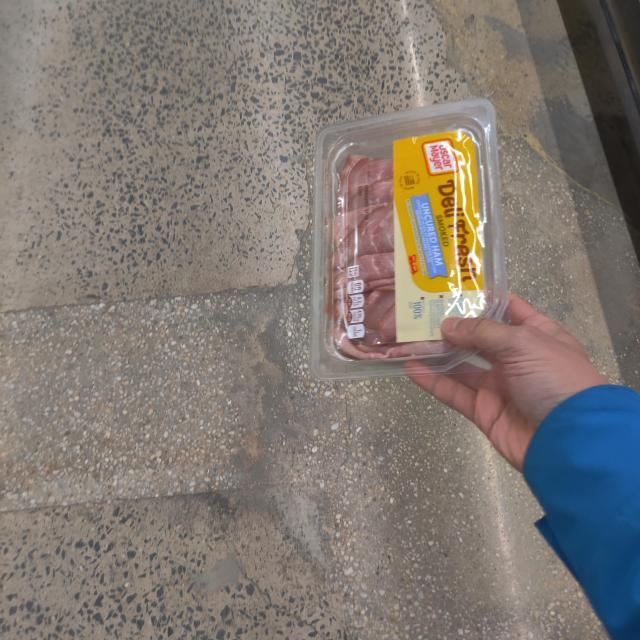Meat: (313, 98, 508, 371)
